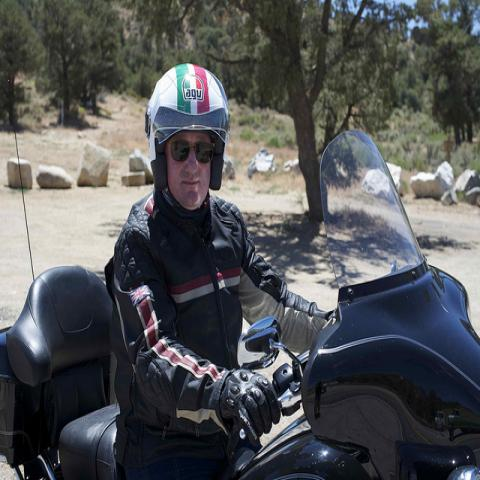motorcycle: (2, 132, 480, 474)
